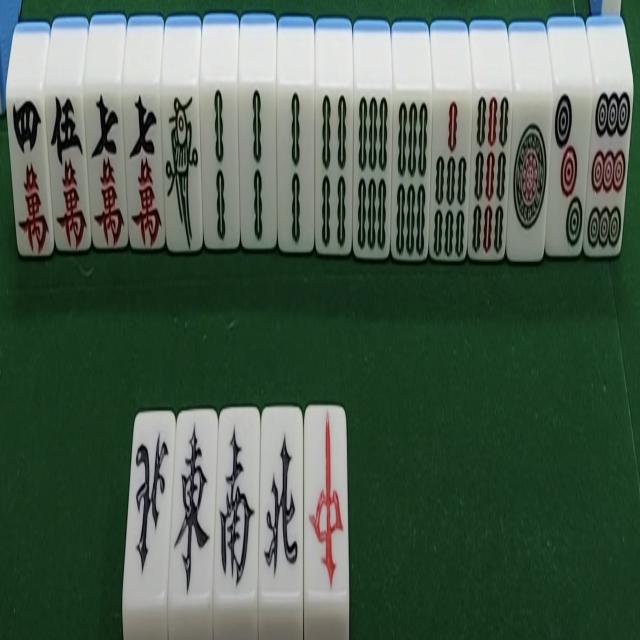east: (172, 410, 216, 602)
f4: (121, 405, 264, 602)
m4: (10, 90, 50, 262)
m5: (48, 91, 88, 242)
m7: (86, 84, 125, 256), (126, 98, 162, 254)
north: (122, 405, 170, 602), (259, 407, 302, 592)
s1: (164, 89, 198, 249)
s2: (280, 88, 312, 248), (242, 89, 275, 244), (206, 84, 237, 246)
s4: (317, 82, 352, 251)
s6: (394, 88, 429, 266), (355, 86, 389, 251)
s7: (430, 92, 470, 266)
s9: (469, 90, 510, 264)
south: (216, 410, 258, 592)
t1: (508, 96, 550, 259)
t3: (550, 86, 590, 252)
t9: (586, 94, 630, 248)
zhong: (304, 408, 344, 595)
